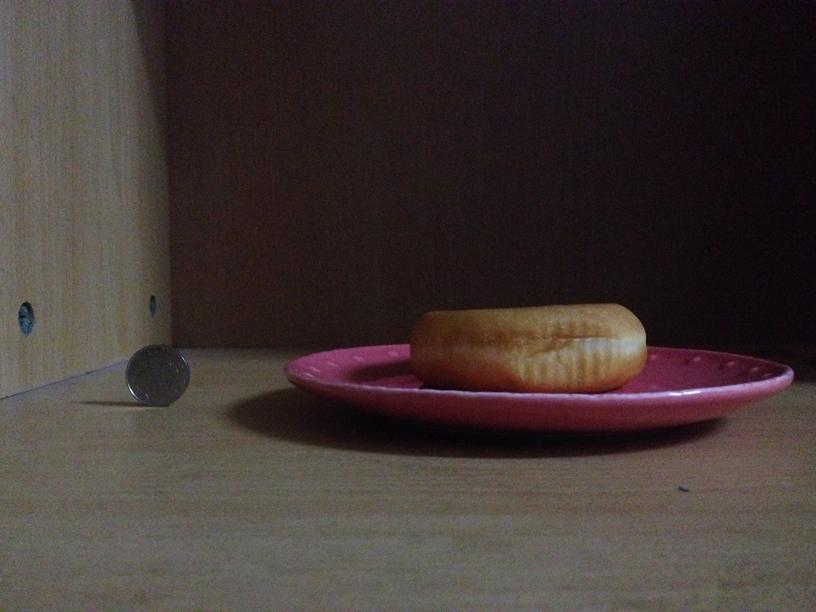coin: (122, 345, 191, 407)
doughnut: (412, 296, 647, 390)
